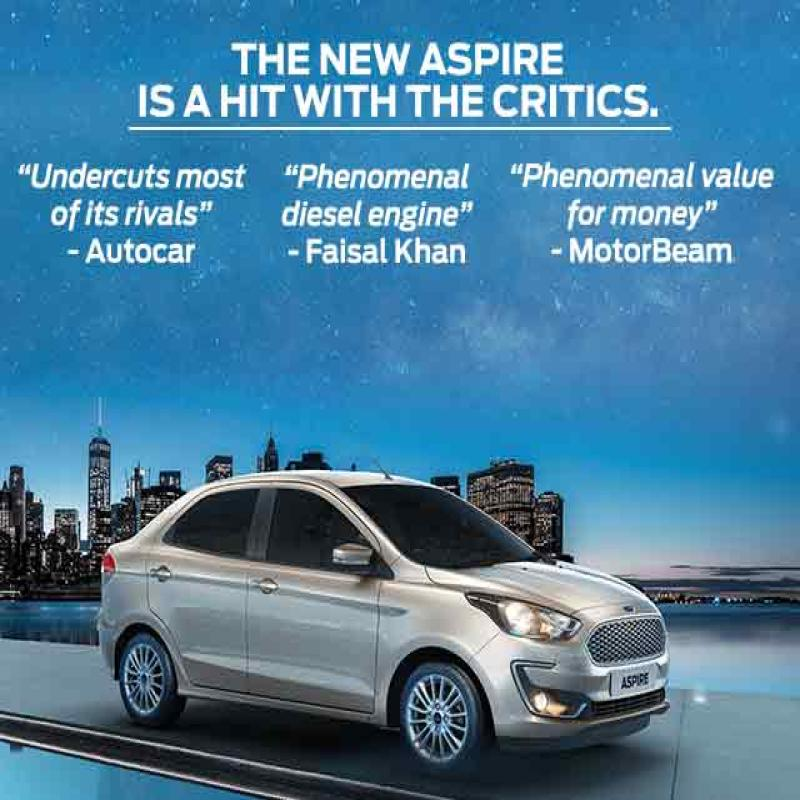car: (57, 448, 672, 761)
